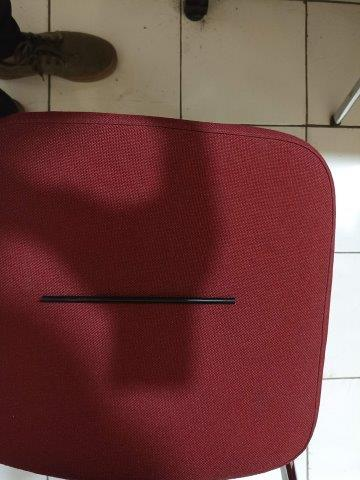sedotan: (40, 295, 235, 305)
